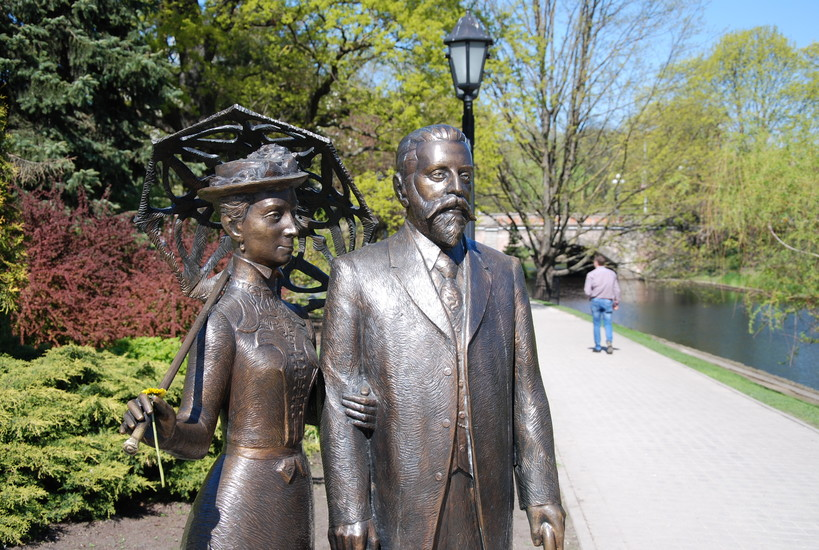person: (581, 253, 622, 358)
person-like: (313, 122, 574, 550), (118, 142, 384, 550)
